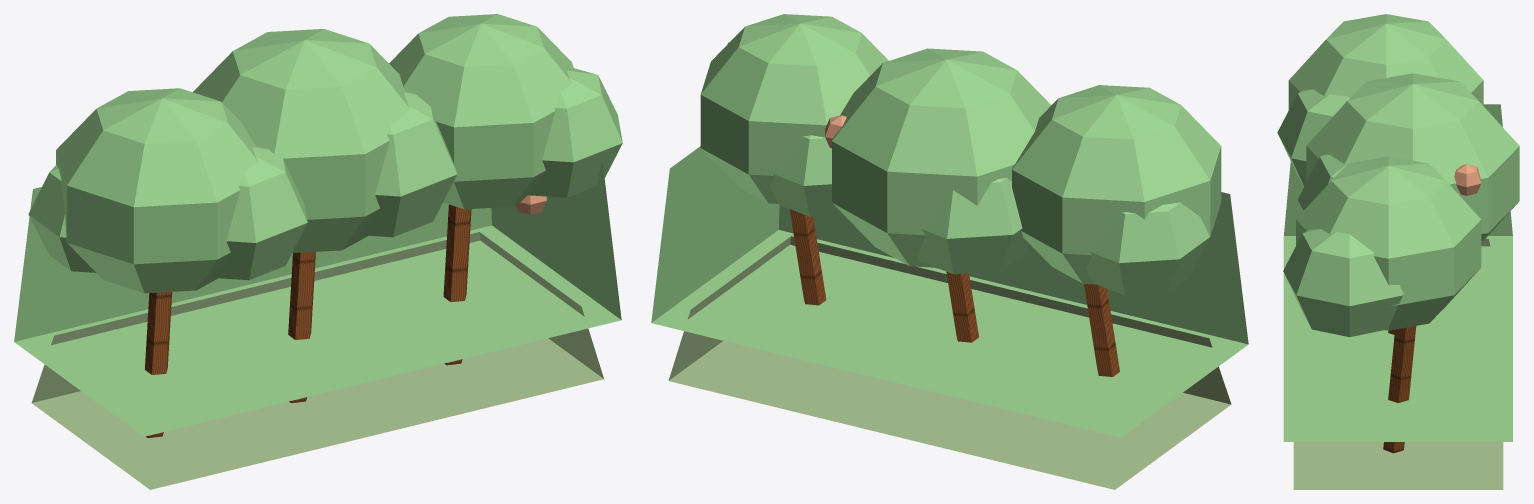
Rendered from allotments-and-community-garden-hedgerow-section-8f26ff74__35166.glb.
3 renders of one model, left to right at view 1: azimuth 30°, elevation 25°; view 2: azimuth 150°, elevation 25°; view 3: azimuth 270°, elevation 25°, orthographic. The views are drawn at different scales.
Visible parts, largest first — view 1: hedgerow-section-leaf, hedgerow-section-grass, hedgerow-section-timber; view 2: hedgerow-section-leaf, hedgerow-section-grass, hedgerow-section-timber; view 3: hedgerow-section-leaf, hedgerow-section-grass, hedgerow-section-timber, hedgerow-section-terracotta.
Part boxes in pixels (x1,y1,x2,y2): hedgerow-section-leaf: [14, 14, 622, 436]; hedgerow-section-grass: [31, 232, 603, 489]; hedgerow-section-timber: [145, 204, 471, 437]; hedgerow-section-leaf: [651, 14, 1248, 437]; hedgerow-section-grass: [668, 236, 1231, 489]; hedgerow-section-timber: [789, 209, 1119, 376]; hedgerow-section-leaf: [1277, 14, 1519, 441]; hedgerow-section-grass: [1293, 238, 1503, 489]; hedgerow-section-timber: [1383, 326, 1416, 453]; hedgerow-section-terracotta: [1454, 164, 1481, 195].
Size of the model in its own units: 2.23 by 1.39 by 0.9941.
4 materials, 1 textured.
